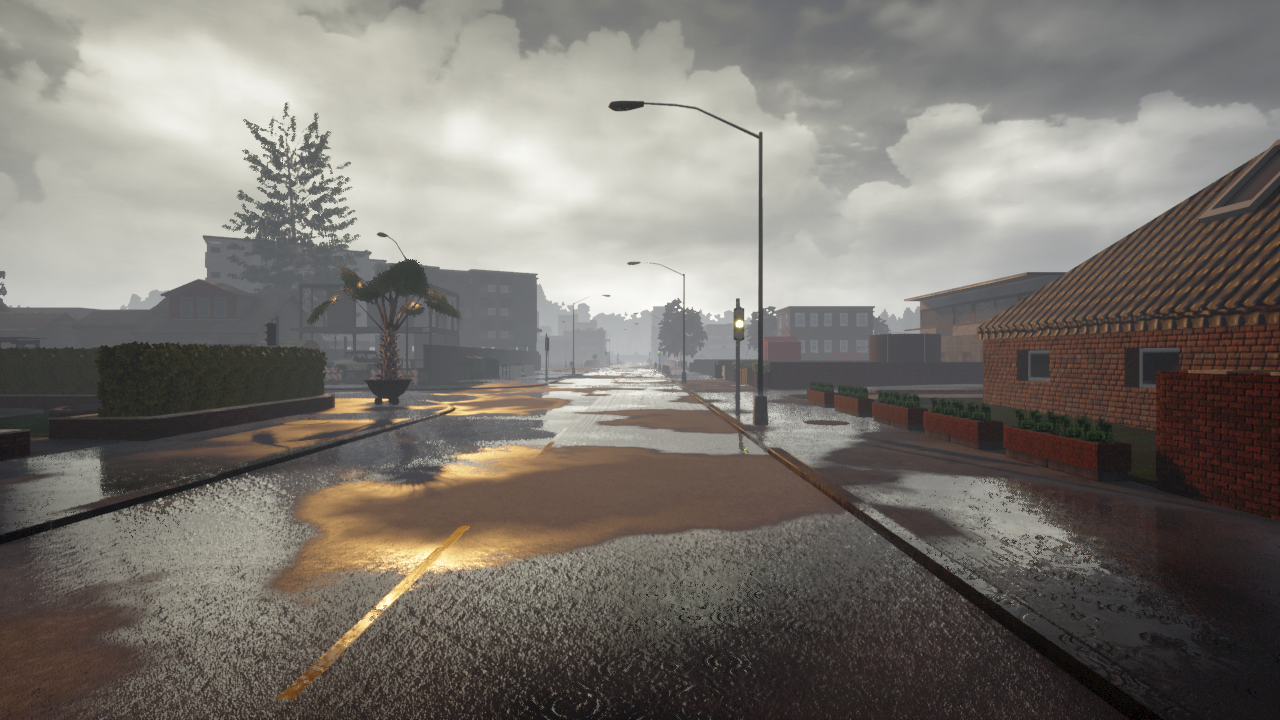yellow: (732, 306, 745, 343)
